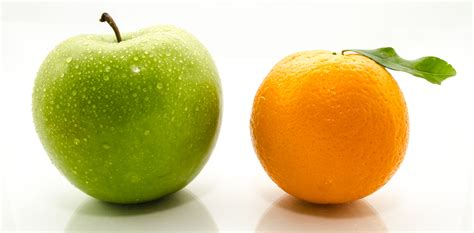apple: (30, 23, 228, 210)
orange: (246, 46, 414, 209)
